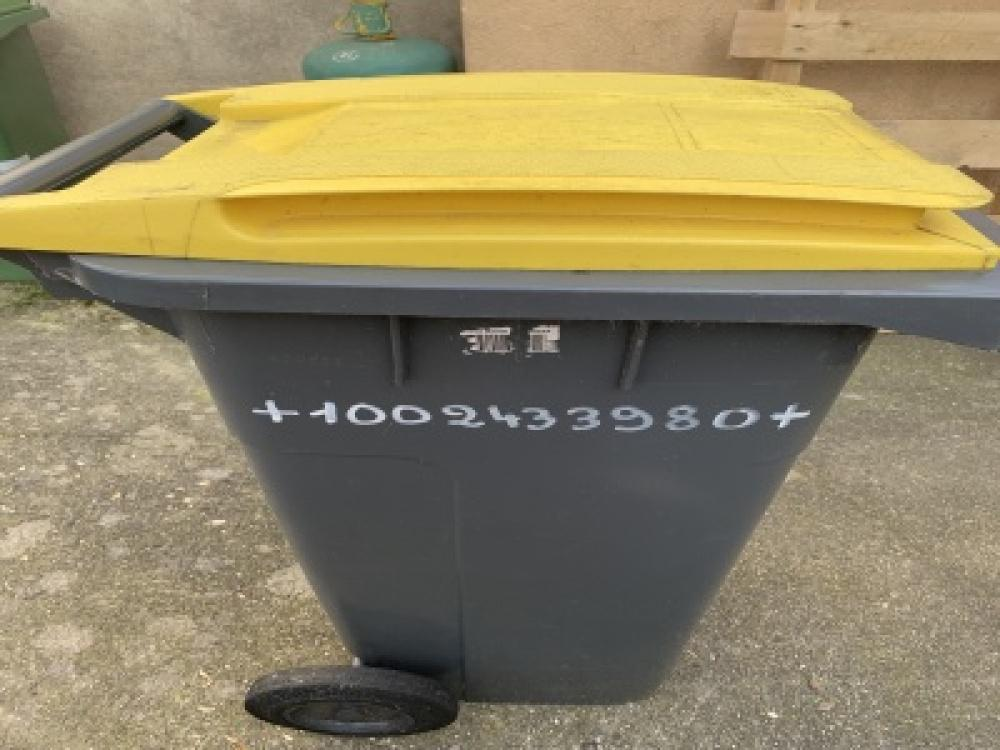+: (768, 398, 809, 433), (248, 397, 299, 425)
0: (712, 406, 759, 432), (346, 400, 386, 428), (392, 406, 432, 425)
1: (310, 400, 340, 425)
2: (442, 402, 486, 430)
3: (566, 405, 602, 432), (521, 406, 554, 432)
4: (489, 404, 522, 430)
8: (666, 405, 704, 434)
9: (610, 406, 652, 432)
